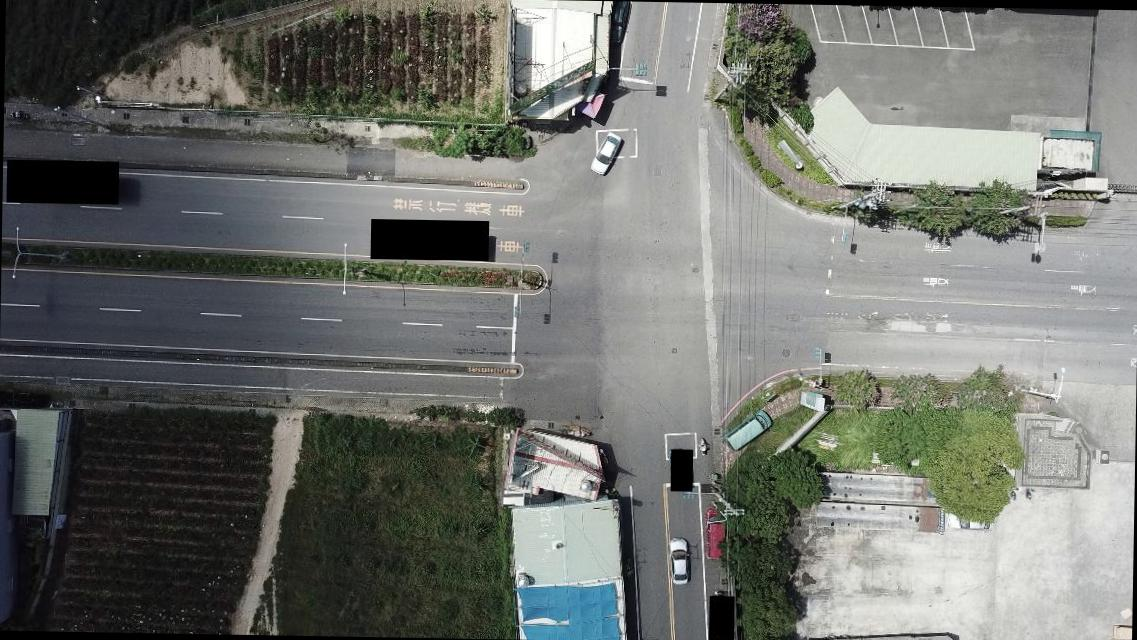vehicle: (726, 408, 774, 450), (588, 129, 624, 176), (704, 508, 728, 560), (606, 1, 632, 45), (668, 537, 691, 585), (948, 514, 998, 534)
